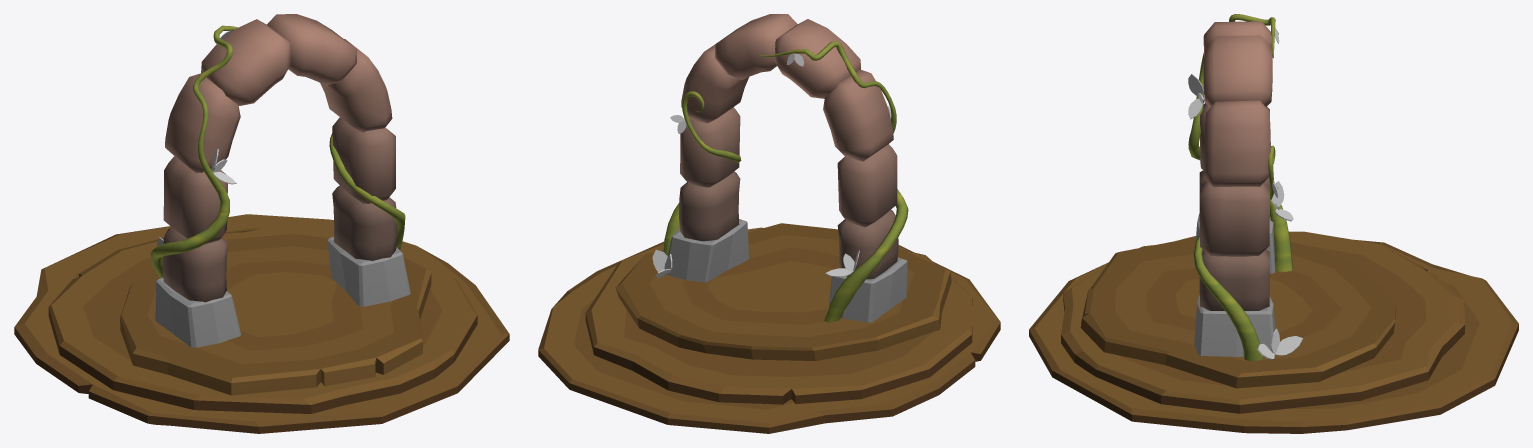
The model's file is obj_ForestPortal.fbx.
The picture shows the model from 3 angles, left to right: view 1: azimuth 30°, elevation 25°; view 2: azimuth 150°, elevation 25°; view 3: azimuth 270°, elevation 25°; orthographic projection. The views are drawn at different scales.
Visible parts, largest first — view 1: obj_ForestPortal; view 2: obj_ForestPortal; view 3: obj_ForestPortal.
Boxes of the visible parts, left/top/right/bottom form: obj_ForestPortal: left=14, top=14, right=509, bottom=433; obj_ForestPortal: left=538, top=14, right=1000, bottom=433; obj_ForestPortal: left=1029, top=14, right=1518, bottom=433.
Bounding box in the file's own units: 1460 × 1117 × 1584.
